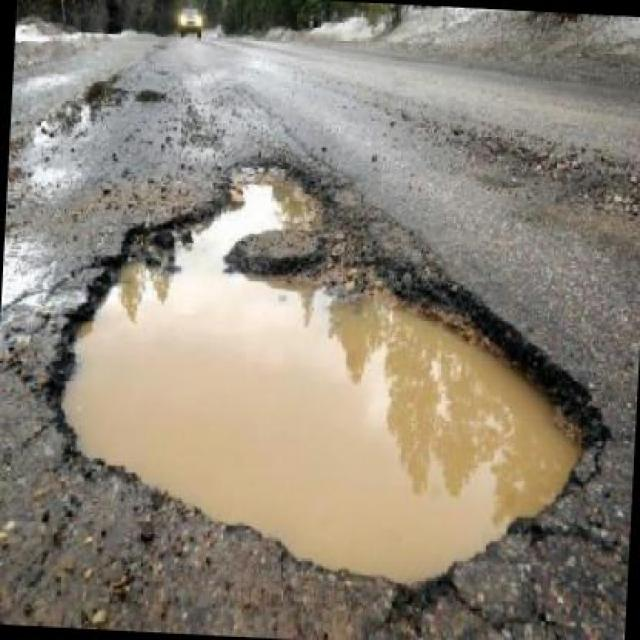pothole1: (31, 139, 624, 607)
